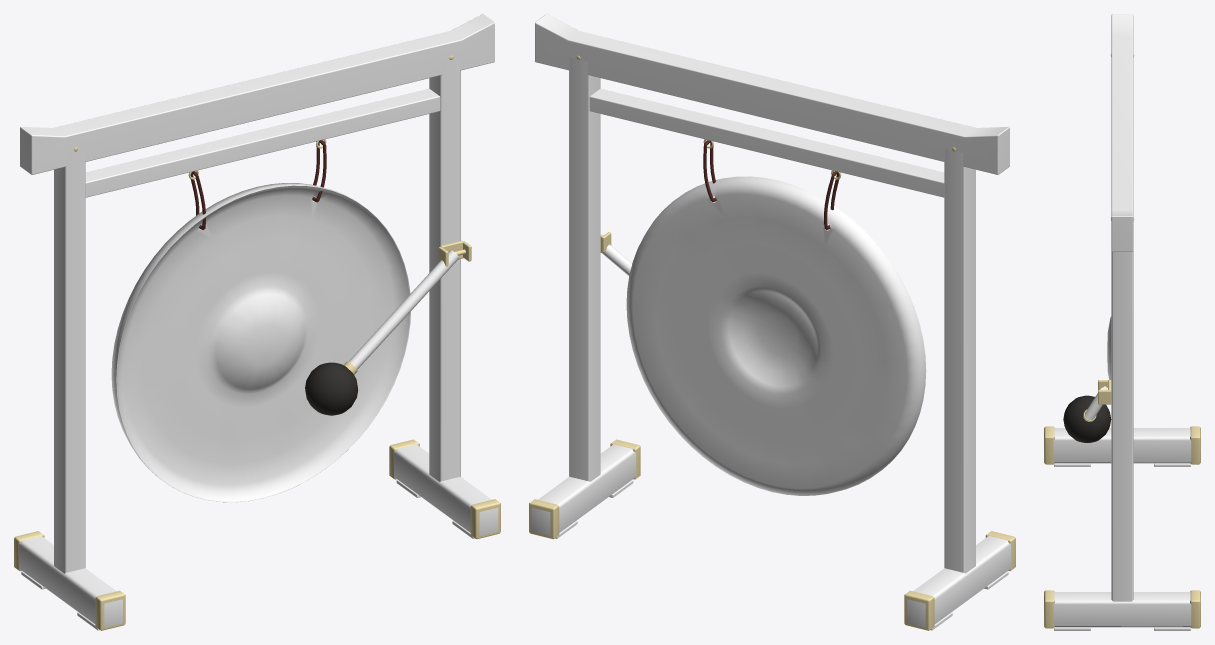
3 renders of one model, left to right at view 1: azimuth 30°, elevation 25°; view 2: azimuth 150°, elevation 25°; view 3: azimuth 270°, elevation 25°, orthographic. The views are drawn at different scales.
Visible parts, largest first — view 1: GongDisc, Fixed / Set wood / Walnut, Mallet, Fixed / Polished pale brass, Fixed / Oxblood waxed cotton; view 2: GongDisc, Fixed / Set wood / Walnut, Fixed / Polished pale brass, Fixed / Oxblood waxed cotton; view 3: Fixed / Set wood / Walnut, Fixed / Polished pale brass, Mallet, Fixed / Dense charcoal wool felt, GongDisc.
Part boxes in pixels (x1,y1,x2,y2): GongDisc: [111, 183, 410, 502]; Fixed / Set wood / Walnut: [19, 14, 498, 627]; Mallet: [305, 250, 459, 415]; Fixed / Polished pale brass: [14, 55, 500, 630]; Fixed / Oxblood waxed cotton: [190, 140, 326, 229]; GongDisc: [626, 176, 926, 495]; Fixed / Set wood / Walnut: [531, 14, 1010, 627]; Fixed / Polished pale brass: [529, 55, 1015, 630]; Fixed / Oxblood waxed cotton: [703, 140, 839, 229]; Fixed / Set wood / Walnut: [1053, 14, 1191, 627]; Fixed / Polished pale brass: [1044, 53, 1200, 628]; Mallet: [1063, 387, 1111, 442]; Fixed / Dense charcoal wool felt: [1054, 463, 1190, 630]; GongDisc: [1107, 316, 1111, 379].
Size of the model in its own units: 0.2831 by 0.2799 by 0.0926.
